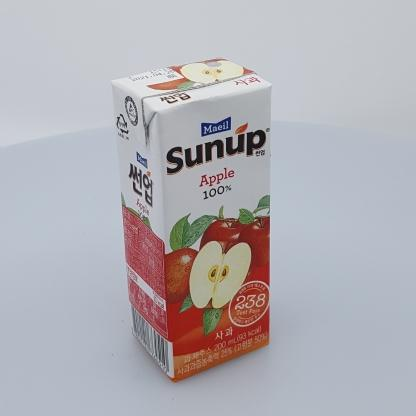-----------200ML: (110, 56, 272, 383)
